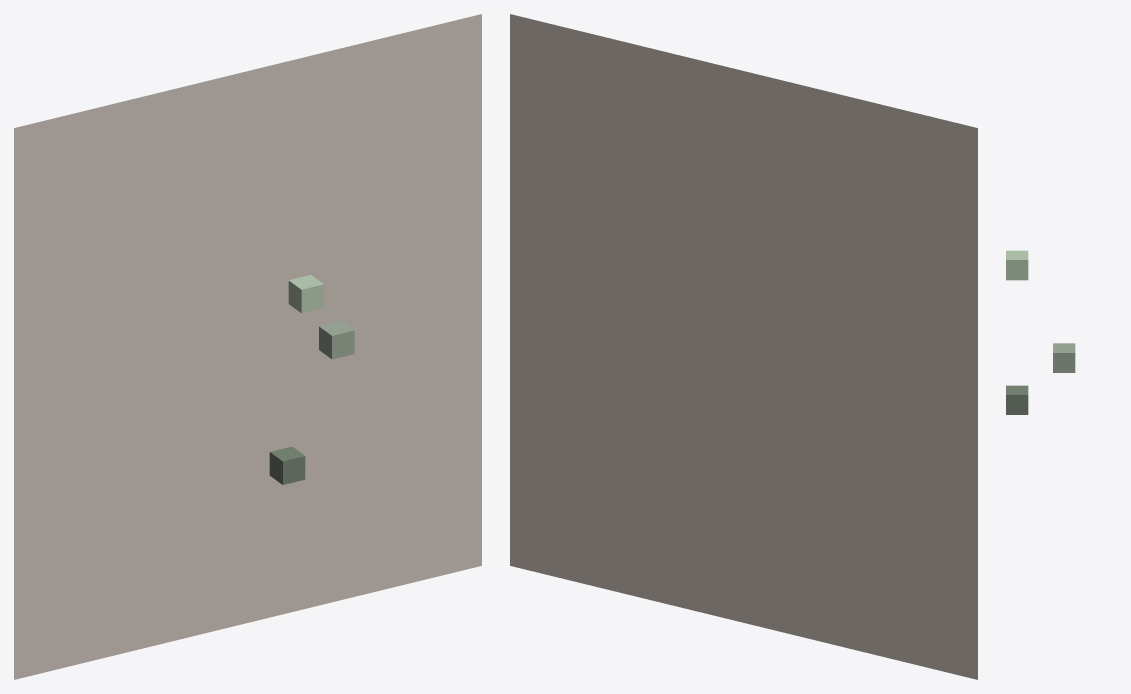
File: stage.glb
3 views of the same model, side by side, from view 1: azimuth 30°, elevation 25°; view 2: azimuth 150°, elevation 25°; view 3: azimuth 270°, elevation 25° (orthographic). The views are drawn at different scales.
Parts seen in each view (by area): view 1: Plane, Cube, Cube.002, Cube.001; view 2: Plane; view 3: Cube.002, Cube.001, Cube.
Part boxes in pixels (x1=…): Plane: x1=14, y1=14, x2=481, y2=679; Cube: x1=269, y1=446, x2=305, y2=484; Cube.002: x1=288, y1=275, x2=323, y2=313; Cube.001: x1=319, y1=321, x2=354, y2=359; Plane: x1=510, y1=14, x2=977, y2=679; Cube.002: x1=1006, y1=250, x2=1028, y2=280; Cube.001: x1=1053, y1=343, x2=1075, y2=372; Cube: x1=1006, y1=385, x2=1028, y2=414.
Size of the model in its own units: 41.46 by 46.74 by 9.95.
